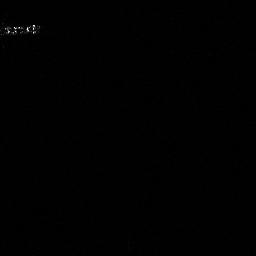ship: (4, 22, 37, 36)
